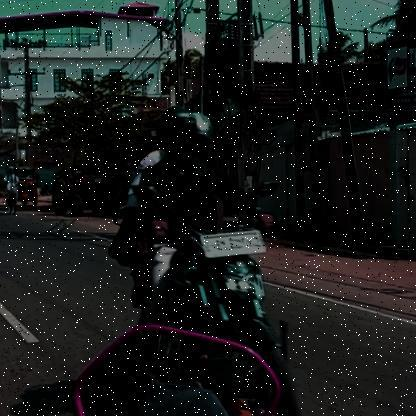motorcycle: (130, 227, 307, 416)
